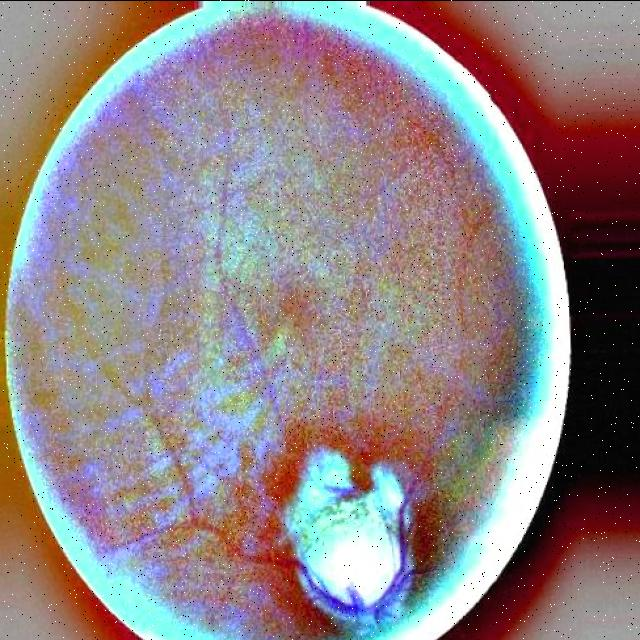Nerves: (239, 500, 437, 628)
Optic Disk: (285, 449, 413, 632)
